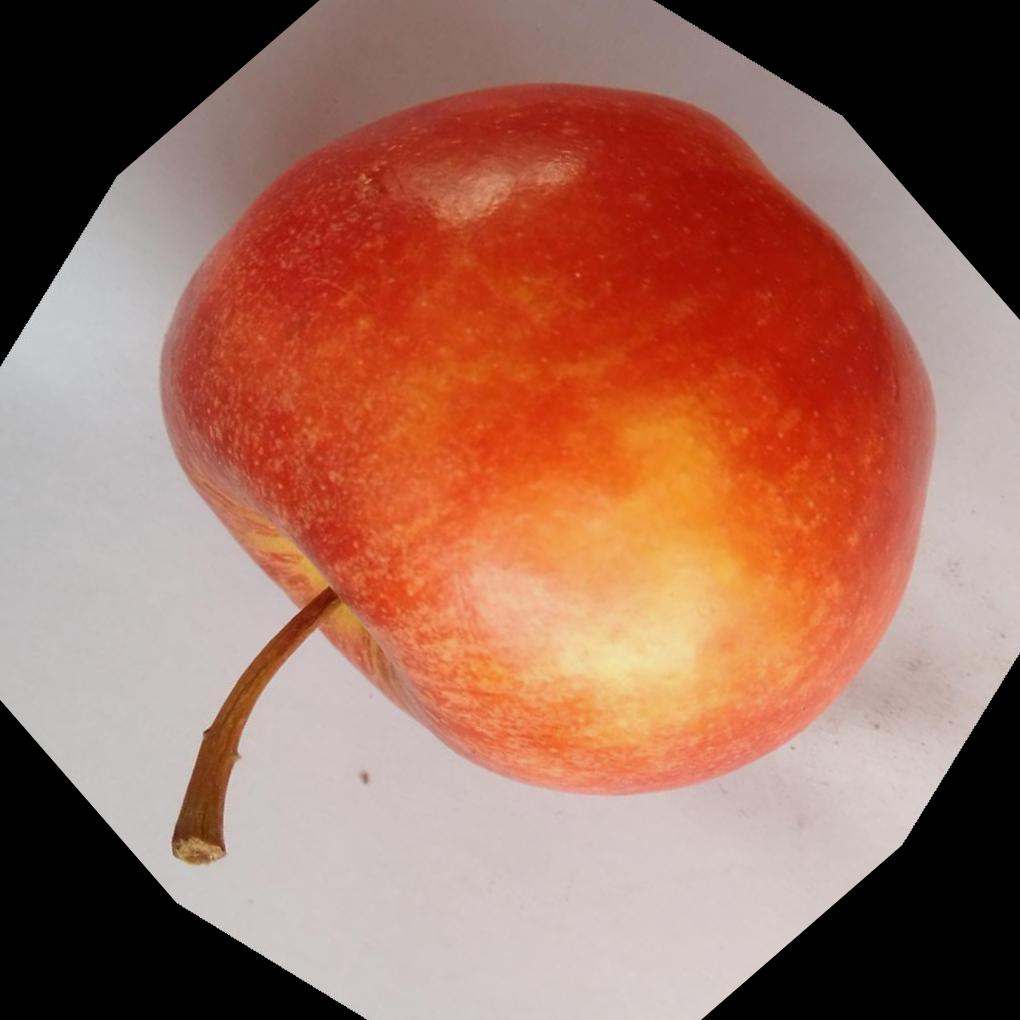FreshGuava: (160, 86, 938, 861)
